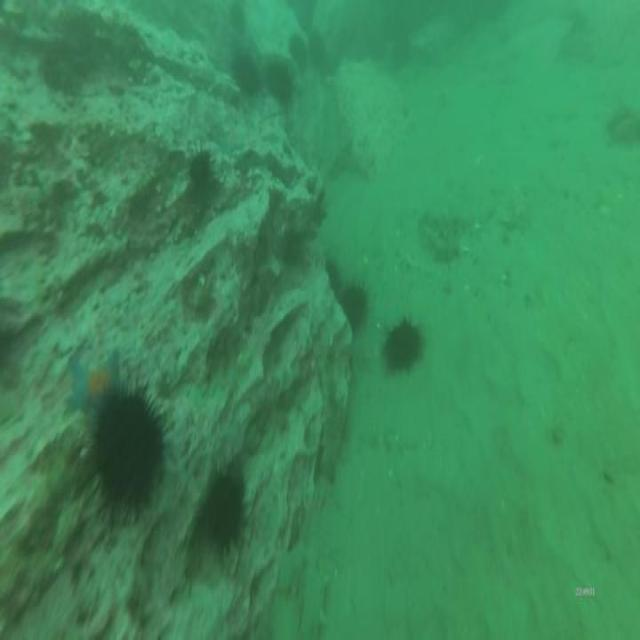echinus: (80, 370, 167, 536), (199, 463, 250, 556), (377, 314, 427, 380), (262, 44, 299, 112), (183, 139, 217, 199), (337, 278, 371, 338), (230, 48, 265, 104), (287, 30, 313, 79), (322, 251, 343, 307), (308, 26, 327, 74), (292, 0, 318, 27)
holothurian: (419, 221, 464, 270), (418, 202, 474, 239)
starfish: (61, 350, 129, 420)
